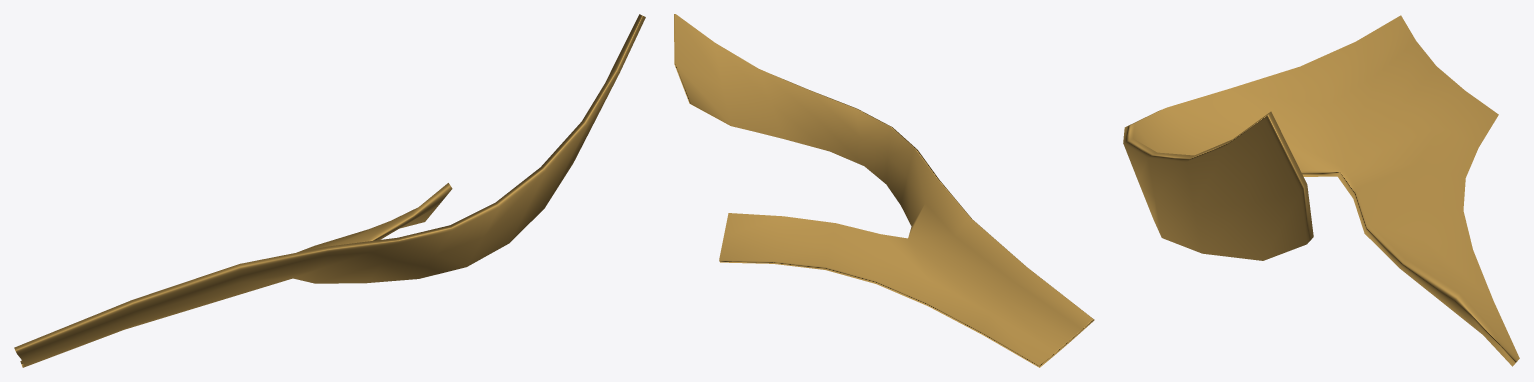
The picture shows the model from 3 angles, left to right: view 1: azimuth 30°, elevation 25°; view 2: azimuth 150°, elevation 25°; view 3: azimuth 270°, elevation 25°; orthographic projection. The views are drawn at different scales.
Parts seen in each view (by area): view 1: 左侧喙肱韧带; view 2: 左侧喙肱韧带; view 3: 左侧喙肱韧带.
Boxes of the visible parts, x1,y1,x2,y2 form: 左侧喙肱韧带: (14, 14, 645, 367); 左侧喙肱韧带: (674, 14, 1094, 367); 左侧喙肱韧带: (1123, 15, 1519, 366).
Bounding box in the file's own units: 0.0686 × 0.0306 × 0.026.
